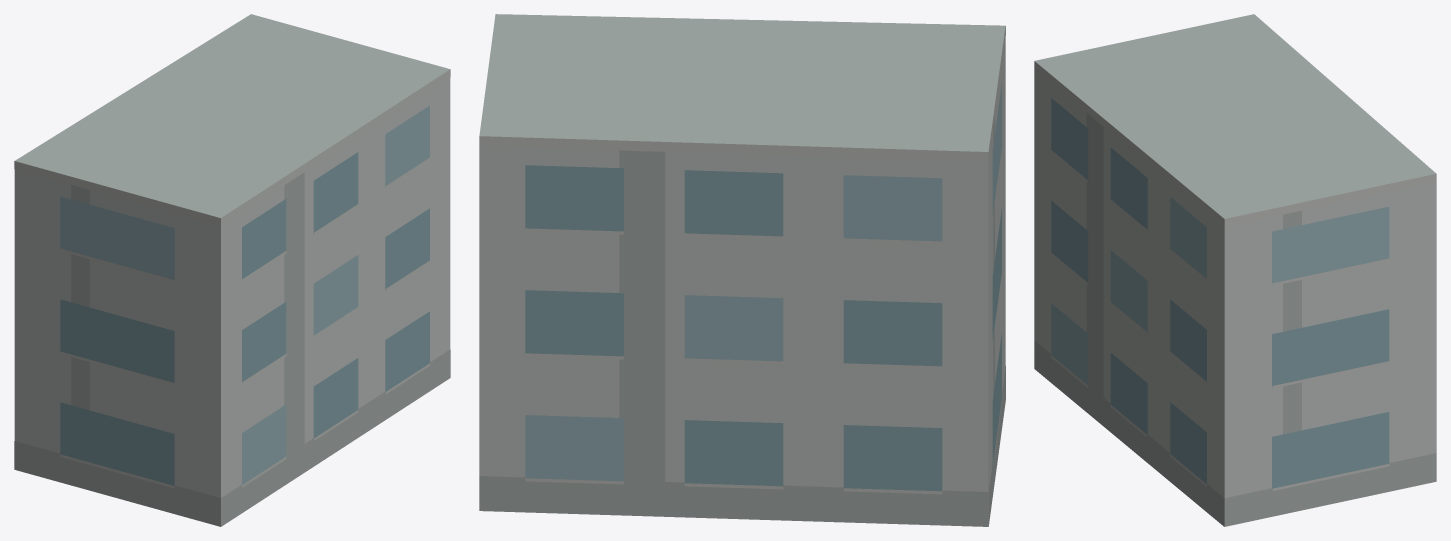
File: residential-574126d8-fa87-441a-89a2-2cf8ce0f89e4.glb
The picture shows the model from 3 angles, left to right: view 1: azimuth 30°, elevation 25°; view 2: azimuth 150°, elevation 25°; view 3: azimuth 270°, elevation 25°; orthographic projection. The views are drawn at different scales.
Parts seen in each view (by area): view 1: residential-574126d8-fa87-441a-89a2-2cf8ce0f89e4.tmp; view 2: residential-574126d8-fa87-441a-89a2-2cf8ce0f89e4.tmp; view 3: residential-574126d8-fa87-441a-89a2-2cf8ce0f89e4.tmp.
Boxes of the visible parts, left/top/right/bottom form: residential-574126d8-fa87-441a-89a2-2cf8ce0f89e4.tmp: left=14, top=14, right=450, bottom=526; residential-574126d8-fa87-441a-89a2-2cf8ce0f89e4.tmp: left=479, top=14, right=1005, bottom=526; residential-574126d8-fa87-441a-89a2-2cf8ce0f89e4.tmp: left=1034, top=14, right=1436, bottom=526.
Bounding box in the file's own units: 13.07 × 9.15 × 10.84.
